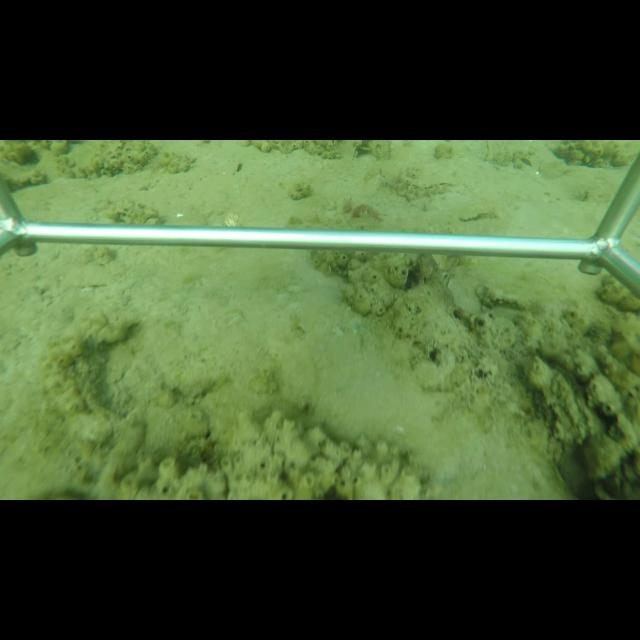Oyster-Closed: (529, 358, 598, 440)
